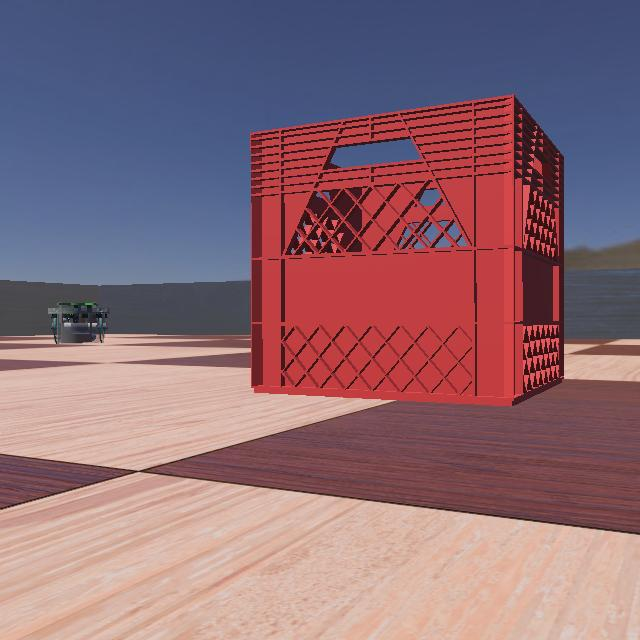plastic-crate: (236, 94, 640, 406)
